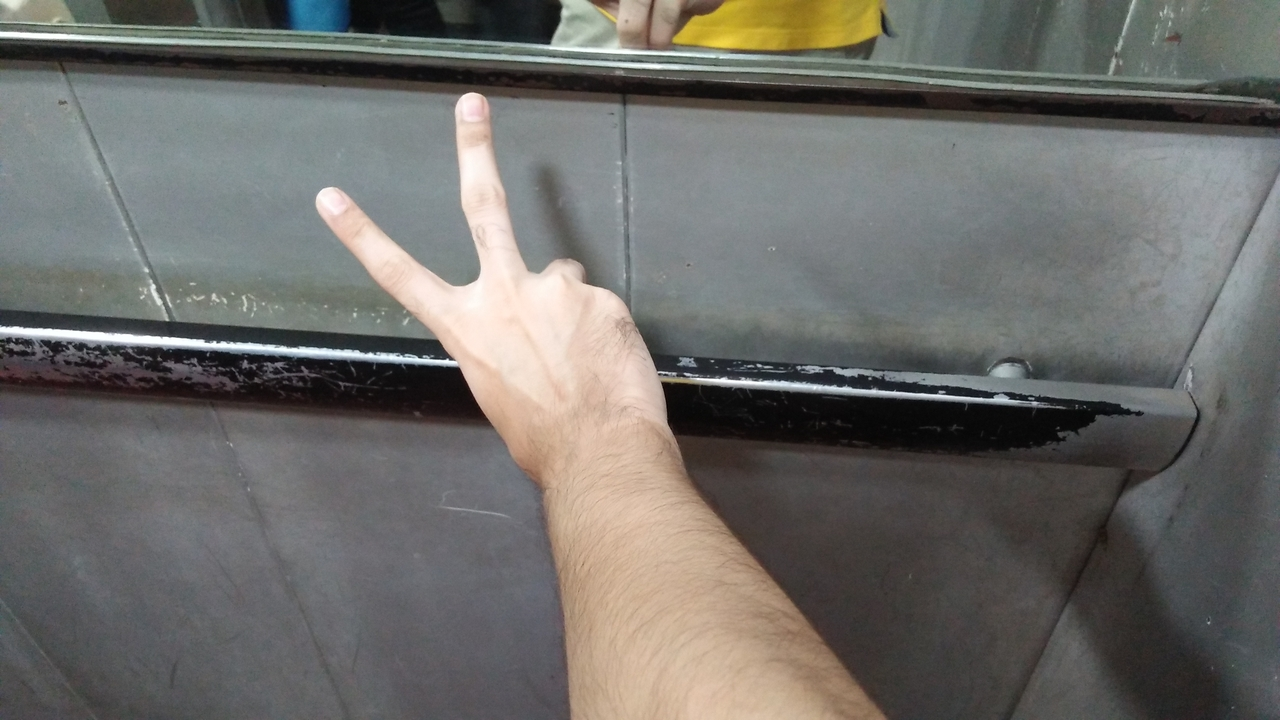fingertip: (298, 172, 366, 228), (440, 80, 502, 130)
